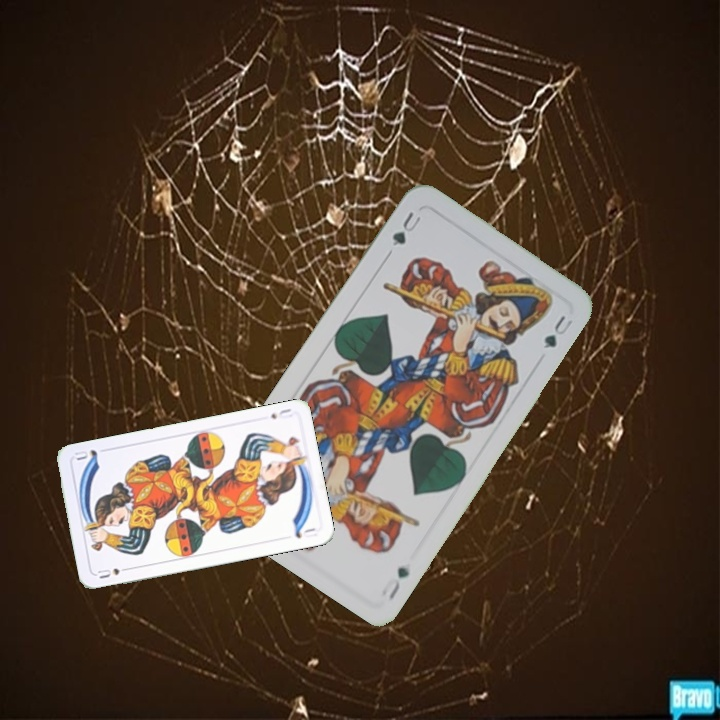GU: (388, 207, 424, 249), (384, 562, 412, 604)
SU: (93, 563, 133, 581), (266, 404, 295, 422)
